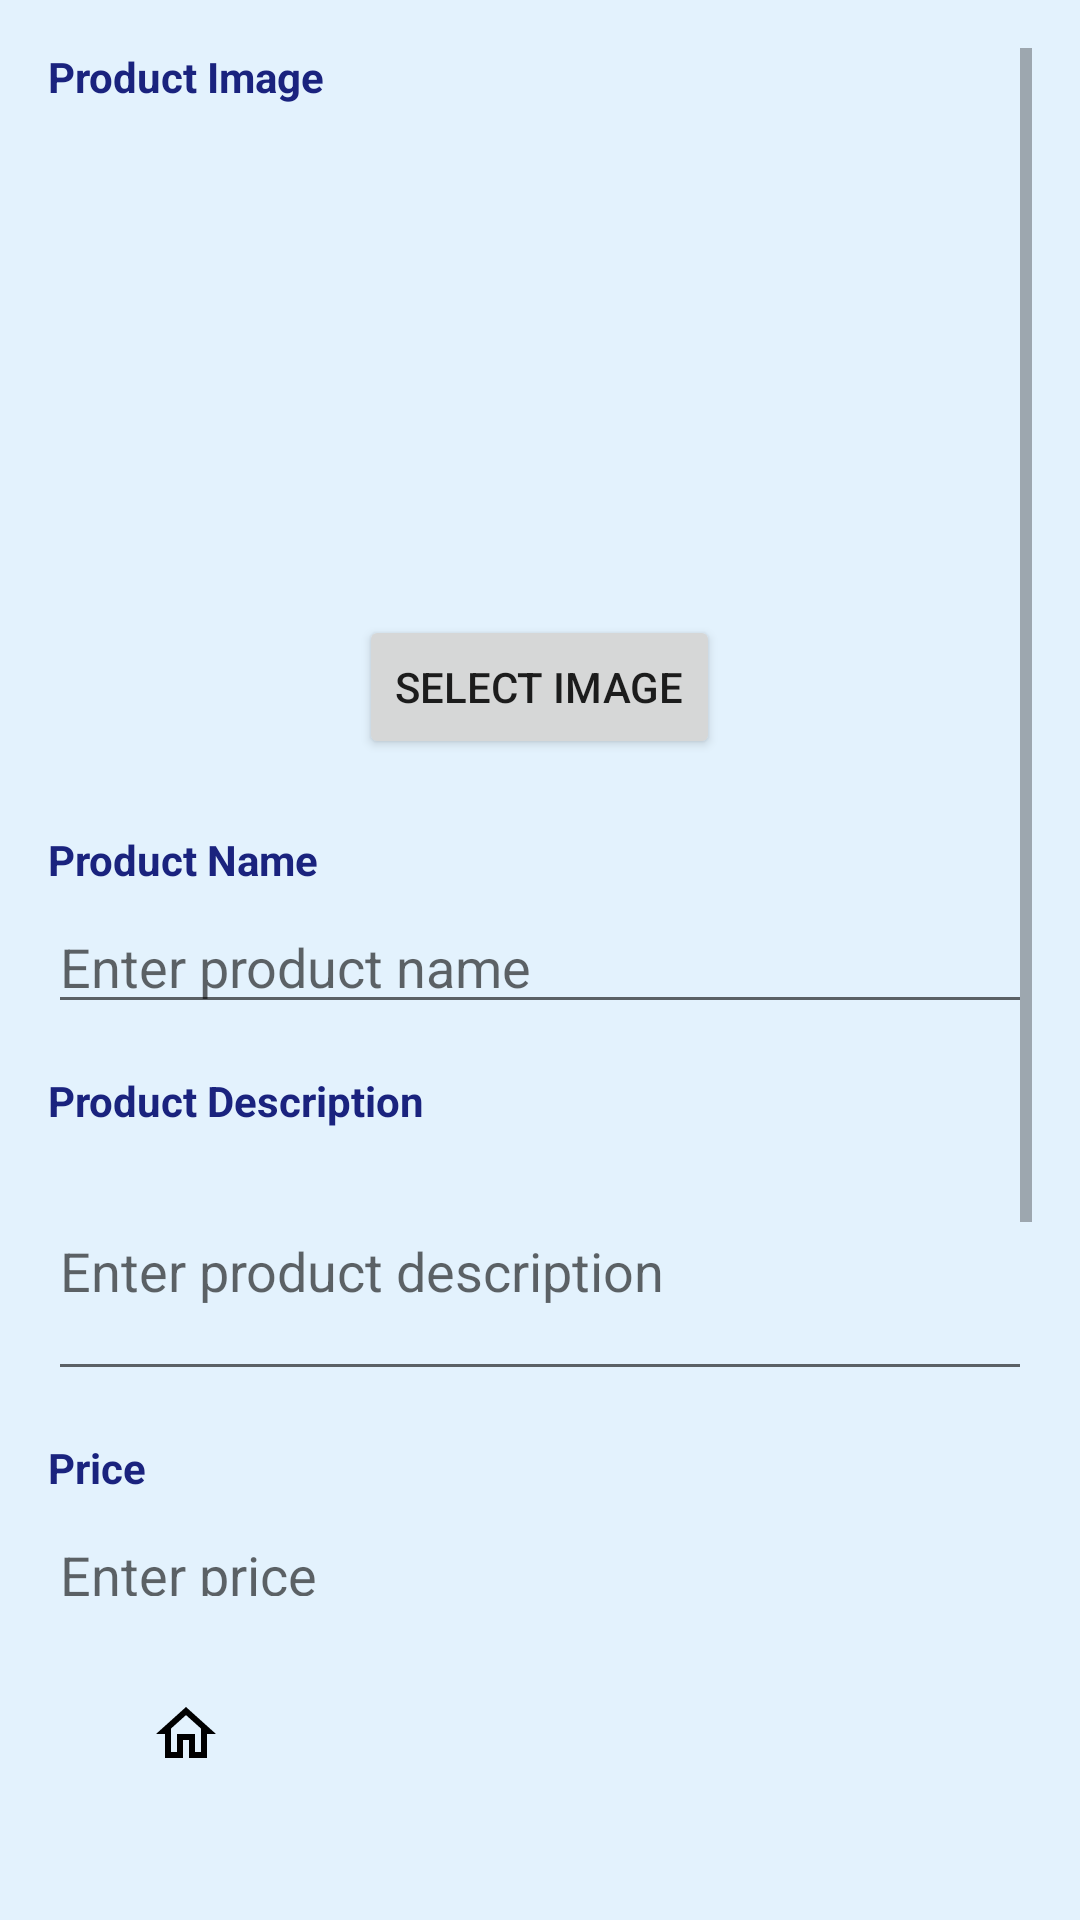

Named icons in this screenshot (1080px x 1920px) and their centers, [x,y]:
Home: [186,1732]
